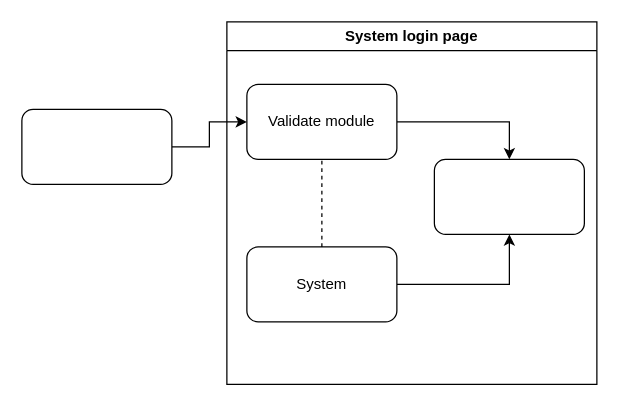
Image size: 619x406. Some labels were removed from this diagram. The shapes that lost their labels are listed below. From the top down, each one's centre as x and y in pixels, then its label:
At pixel 96 146: "Login information".
At pixel 508 196: "Users database".
